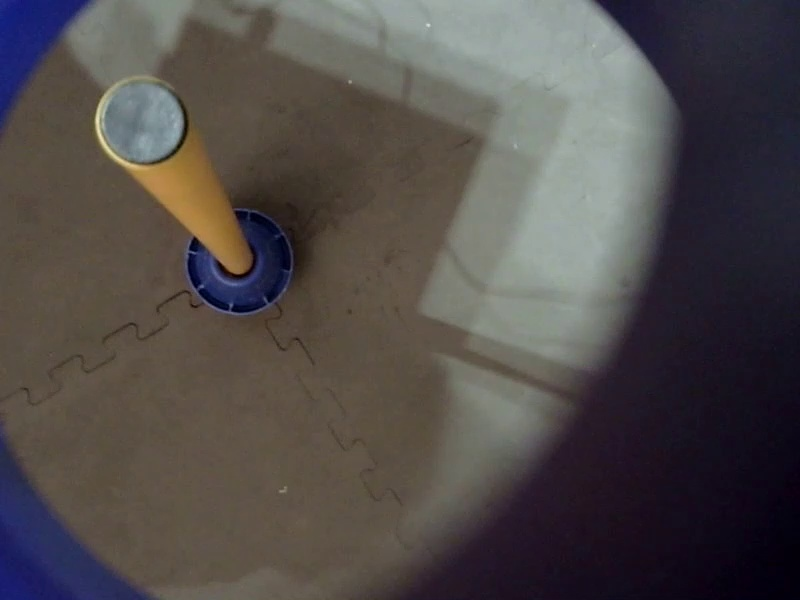tip: (93, 72, 201, 178)
